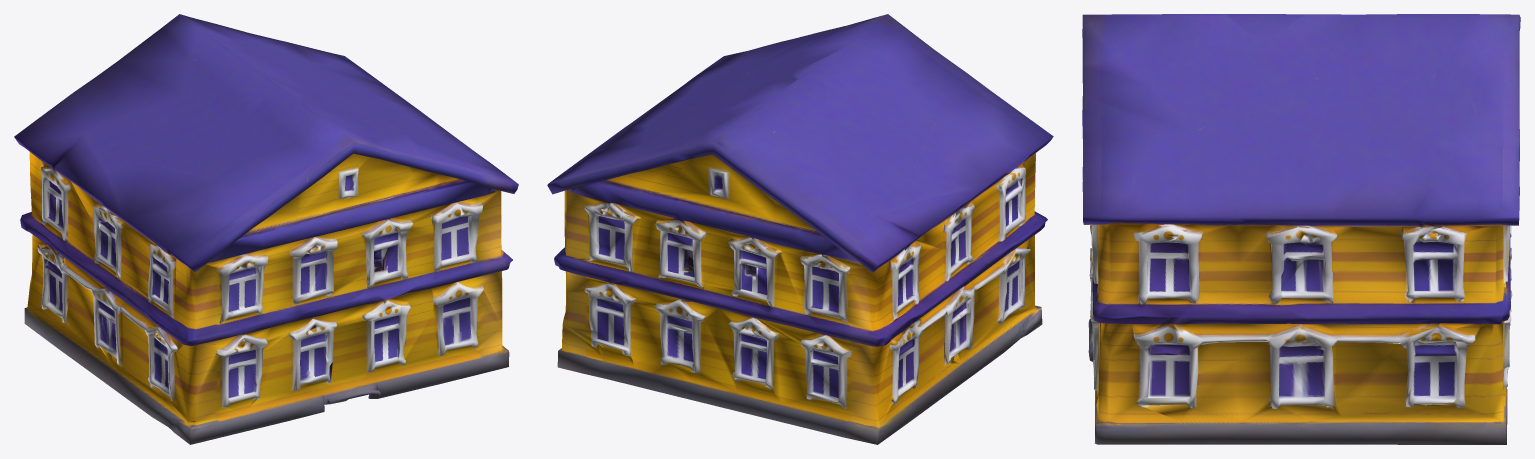
The model's file is Yellow_House.glb.
3 views of the same model, side by side, from view 1: azimuth 30°, elevation 25°; view 2: azimuth 150°, elevation 25°; view 3: azimuth 270°, elevation 25° (orthographic). The views are drawn at different scales.
Bounding box in the file's own units: 2 × 1.56 × 1.82.
1 material, 1 textured.
